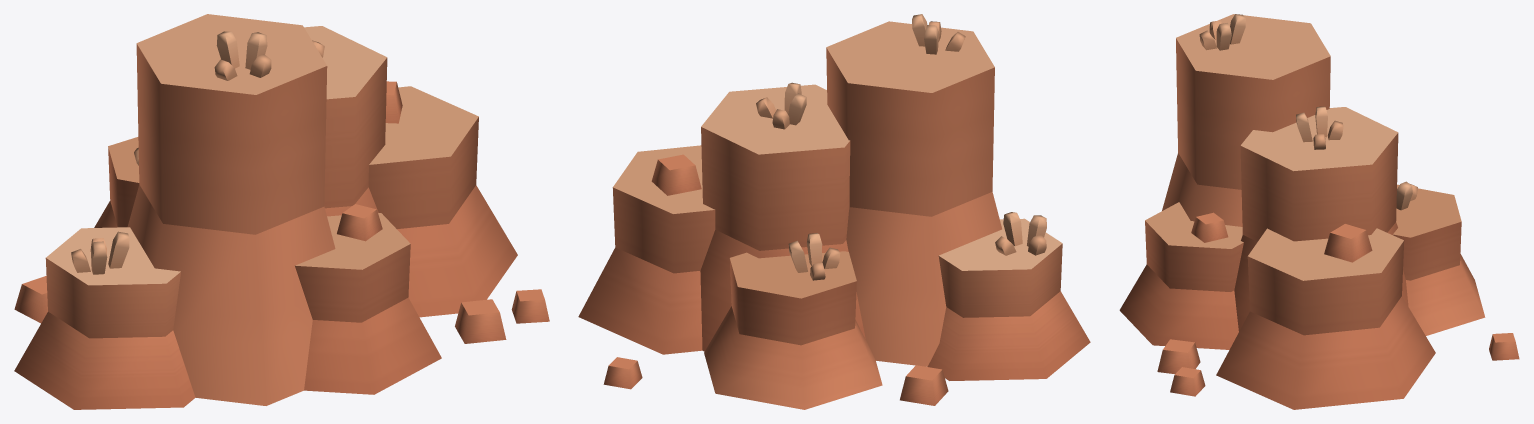
File: rocks-sand-a.gltf
3 renders of one model, left to right at view 1: azimuth 30°, elevation 25°; view 2: azimuth 150°, elevation 25°; view 3: azimuth 270°, elevation 25°, orthographic. The views are drawn at different scales.
Visible parts, largest first — view 1: rocks-sand-a; view 2: rocks-sand-a; view 3: rocks-sand-a.
Boxes of the visible parts, left/top/right/bottom form: rocks-sand-a: left=14, top=14, right=549, bottom=409; rocks-sand-a: left=578, top=14, right=1090, bottom=409; rocks-sand-a: left=1119, top=14, right=1519, bottom=409.
Bounding box in the file's own units: 5.11 × 3.21 × 4.39.
1 material, 1 textured.
